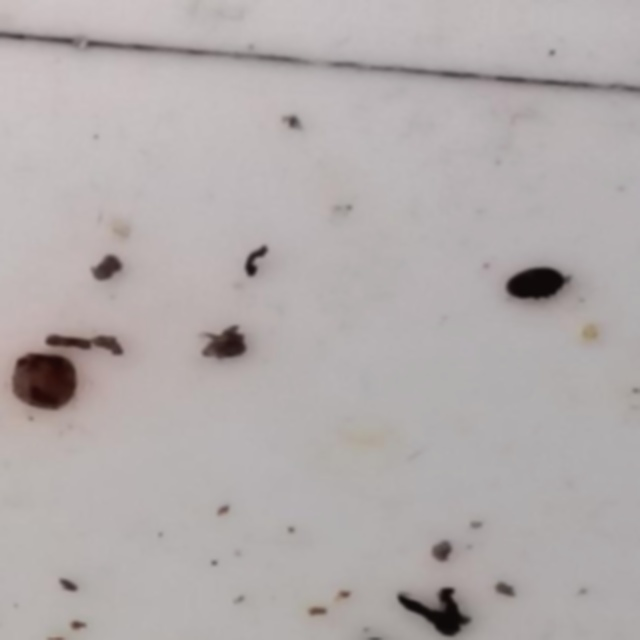varroa: (496, 265, 565, 306)
